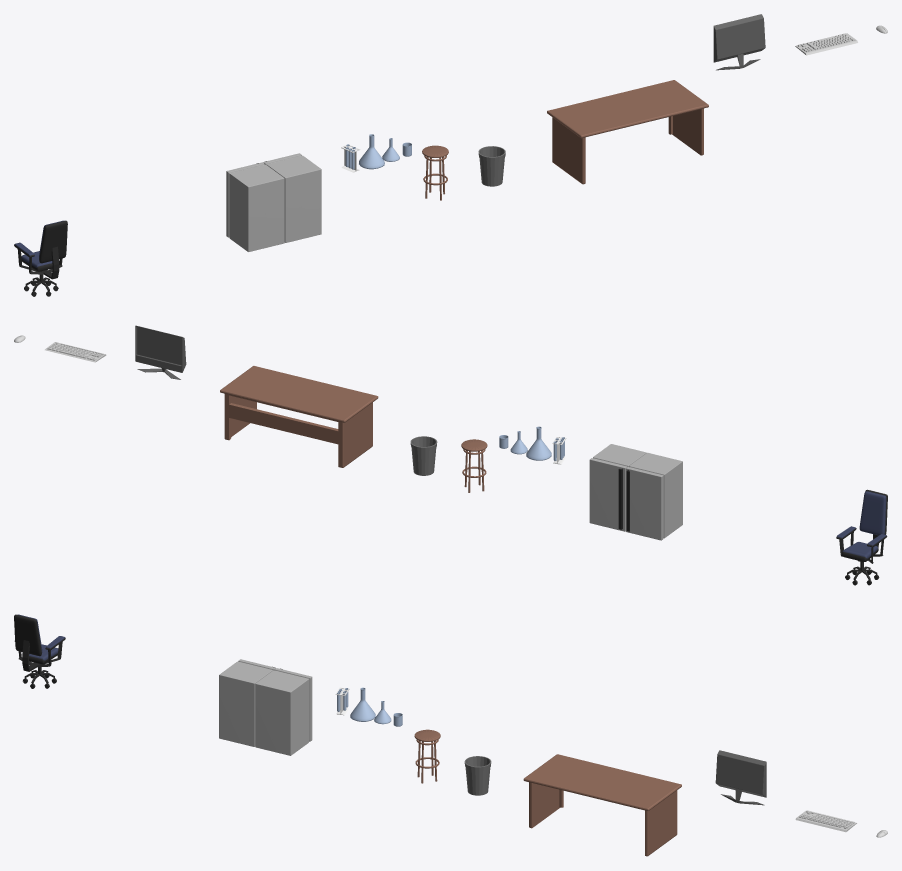
The model's file is LowPolyLabAssets.fbx.
3 renders of one model, top to bottom at view 1: azimuth 30°, elevation 25°; view 2: azimuth 150°, elevation 25°; view 3: azimuth 330°, elevation 25°, orthographic. The views are drawn at different scales.
Visible parts, largest first — view 1: pCube304, pCube21, pCube131, pCube19, round_bin, pTorus2, pCube50; view 2: pCube21, pCube304, pCube131, pCube19, round_bin, pTorus2, pCube50; view 3: pCube304, pCube21, pCube131, pCube19, round_bin, pTorus2, pCube50.
Boxes of the visible parts, x1,y1,x2,y2 form: pCube304: (226,153,321,251); pCube21: (547,80,708,184); pCube131: (14,220,67,296); pCube19: (713,14,765,70); round_bin: (478,146,505,186); pTorus2: (422,145,448,200); pCube50: (795,33,857,55); pCube21: (220,366,378,467); pCube304: (589,444,682,540); pCube131: (836,489,887,585); pCube19: (135,325,186,379); round_bin: (410,436,437,475); pTorus2: (461,439,487,492); pCube50: (45,342,106,362); pCube304: (219,659,312,755); pCube21: (523,754,681,856); pCube131: (14,614,65,688); pCube19: (715,750,766,805); round_bin: (464,756,491,795); pTorus2: (414,729,440,783); pCube50: (795,810,856,832).
Size of the model in its own units: 111 by 11.65 by 8.39.
